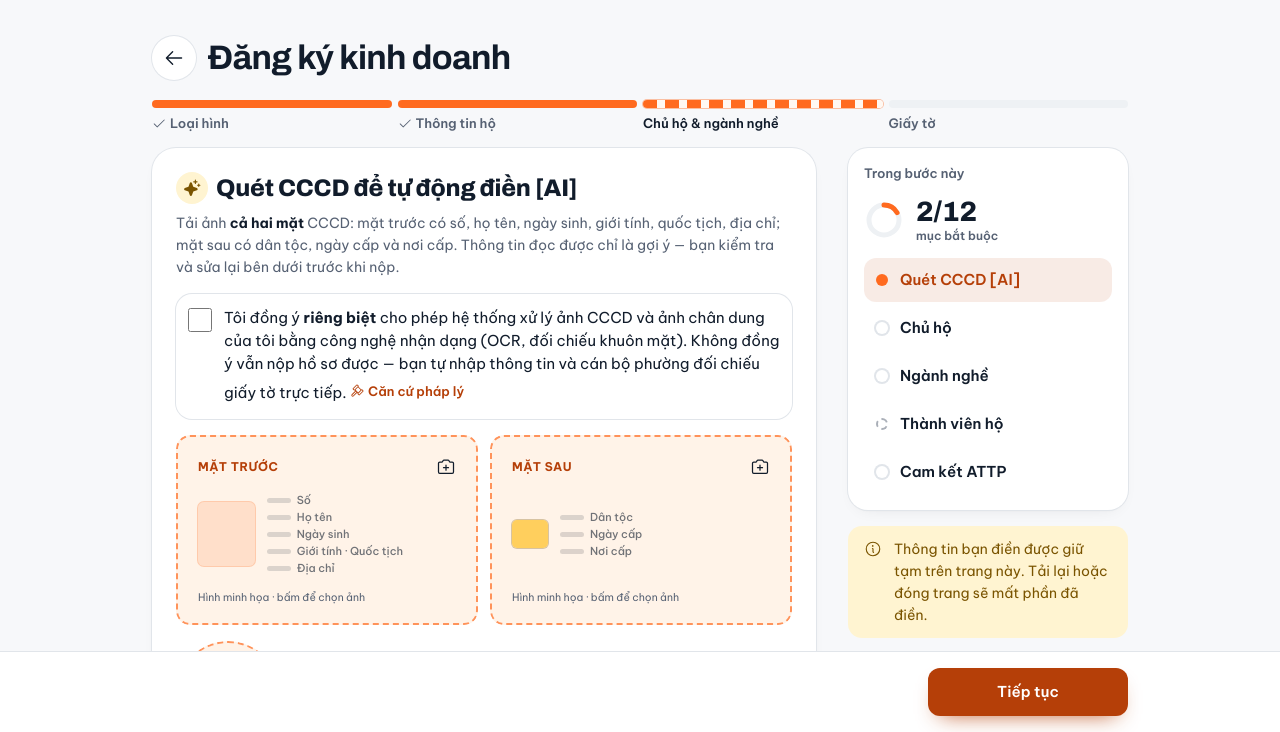
Test: step 3 — owner, business line and ATTP commitment › lists every missing Mẫu 01 field and stays on the step
Click the button "Tiếp tục": (1028, 692) [928,668,1128,716]
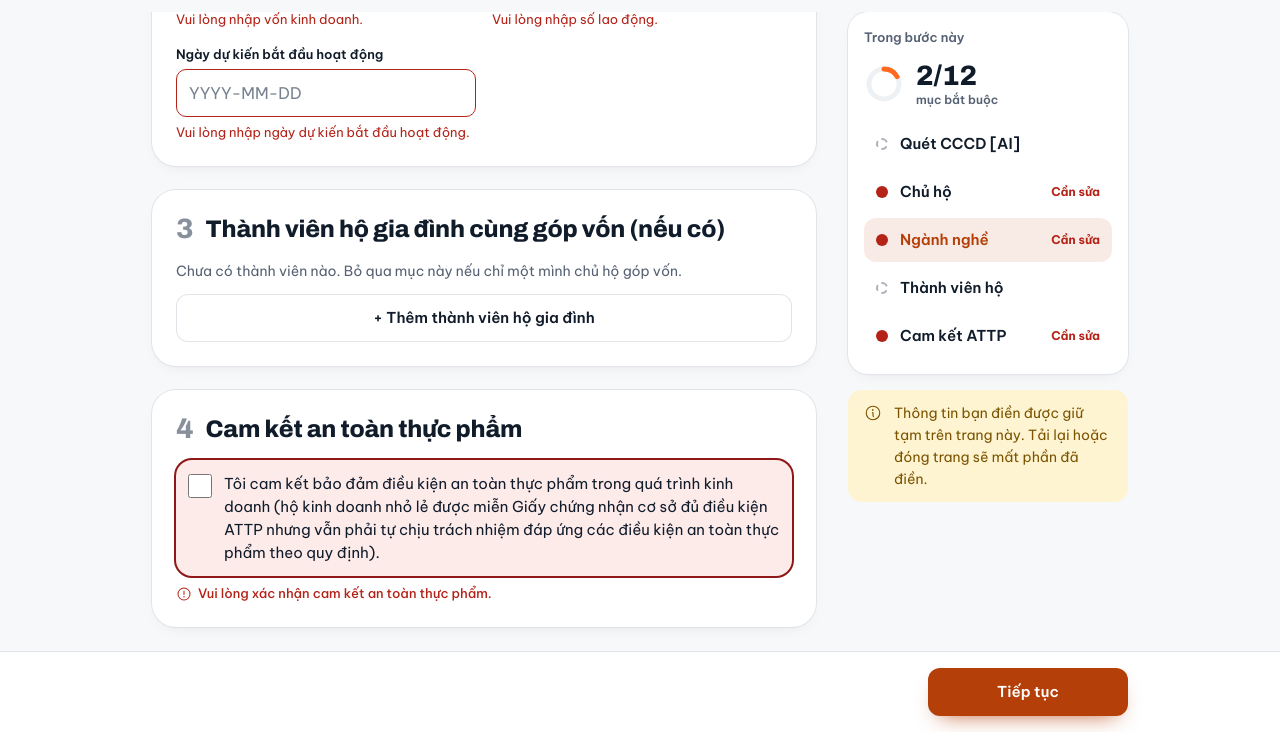
Expected: the text "Vui lòng nhập vốn kinh doanh." is shown, [176,12,363,27]
Expected: the text "Vui lòng nhập số lao động." is shown, [492,12,658,27]
Expected: the text "Vui lòng nhập ngày dự kiến bắt đầu hoạt động." is shown, [176,123,476,142]
